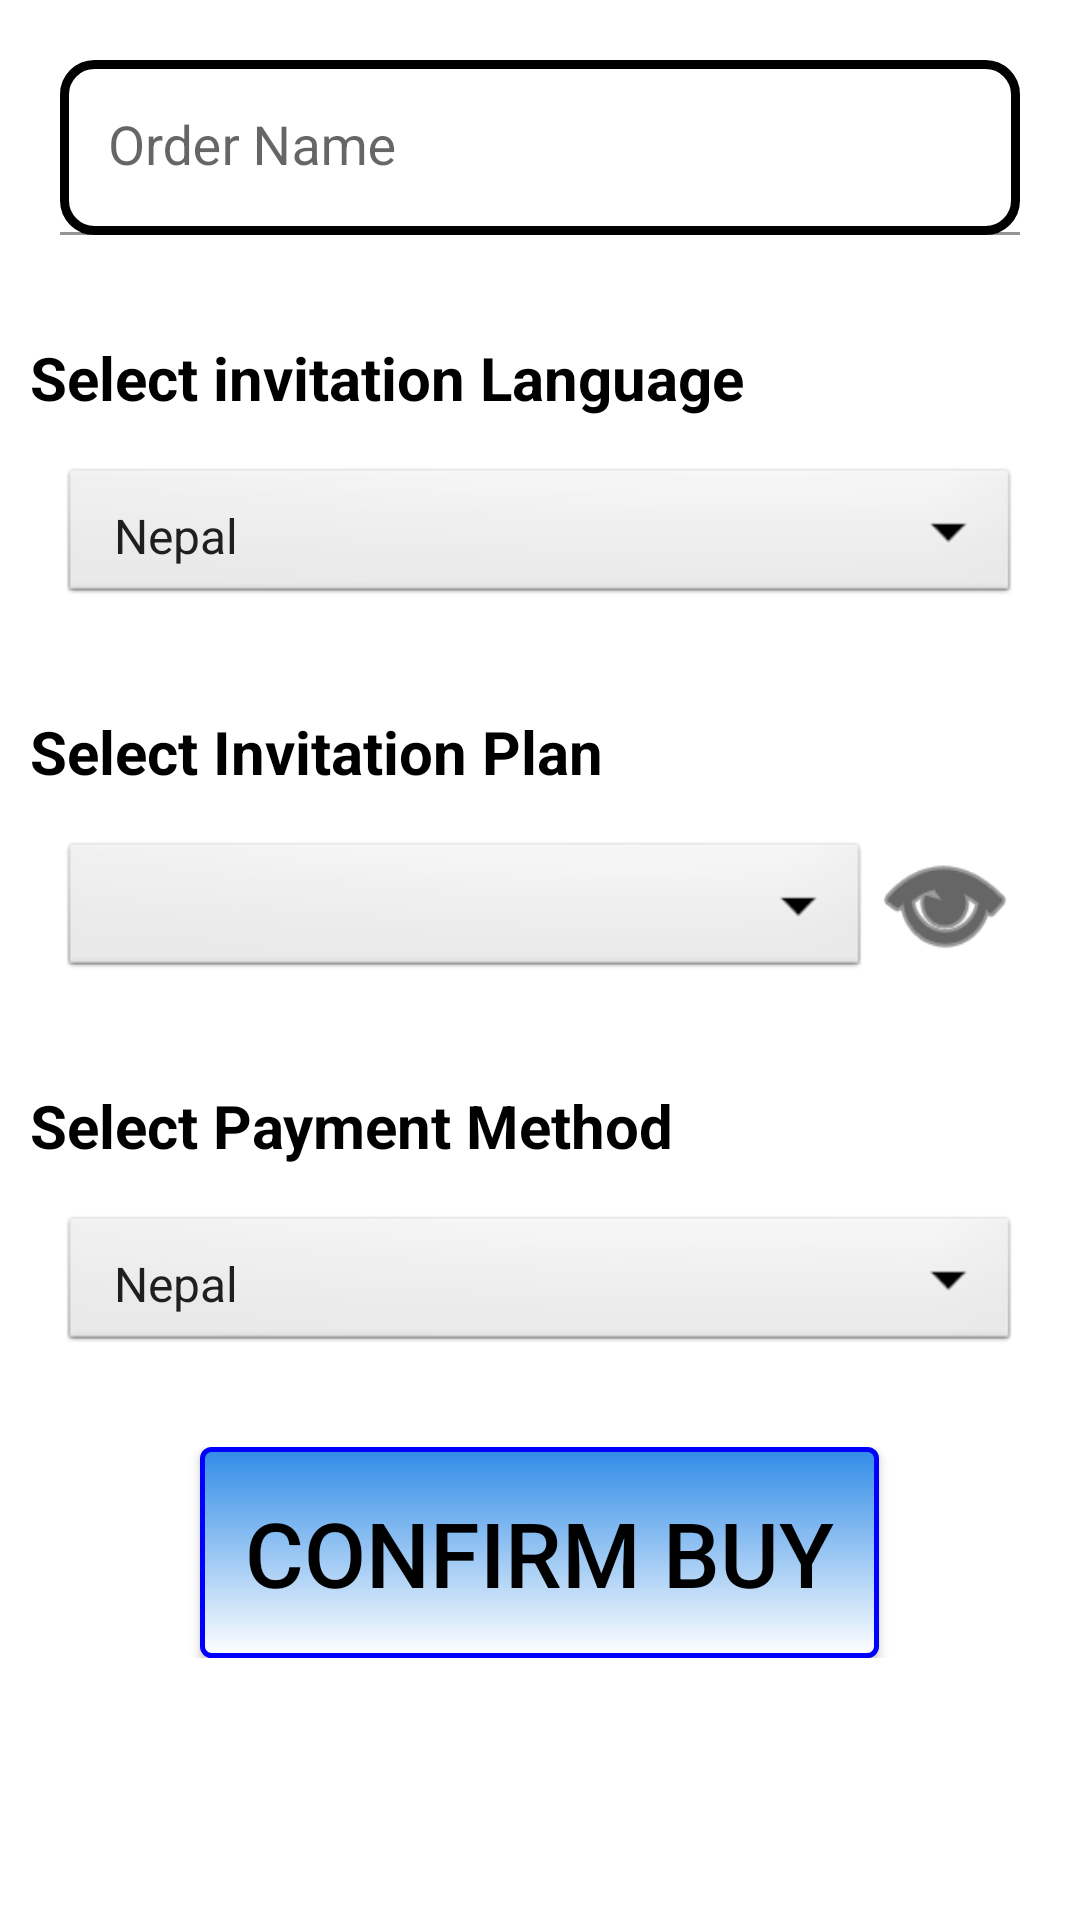

Locate icon controls on the screen. Image size 1080*1920, boxes as (x1, y1, x2, y2).
view: (884, 865, 1006, 948)
